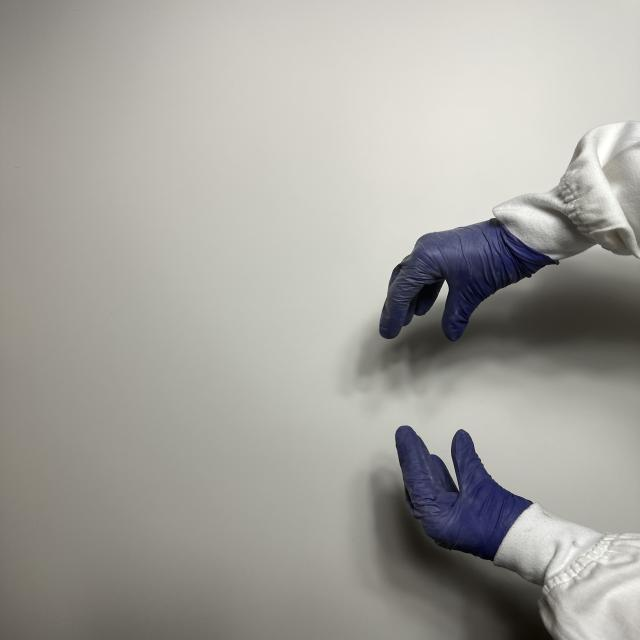gloves_contaminated: (380, 218, 558, 342), (396, 426, 532, 561)
